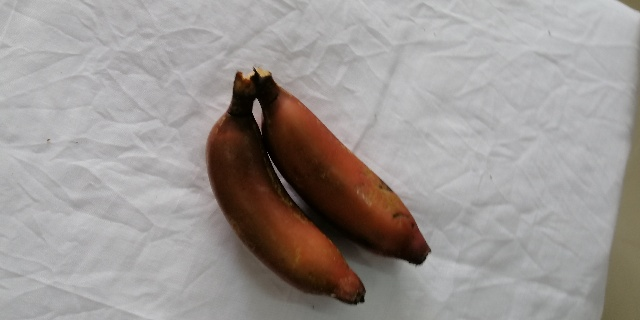banana_red: (207, 76, 368, 303), (252, 71, 433, 266)
